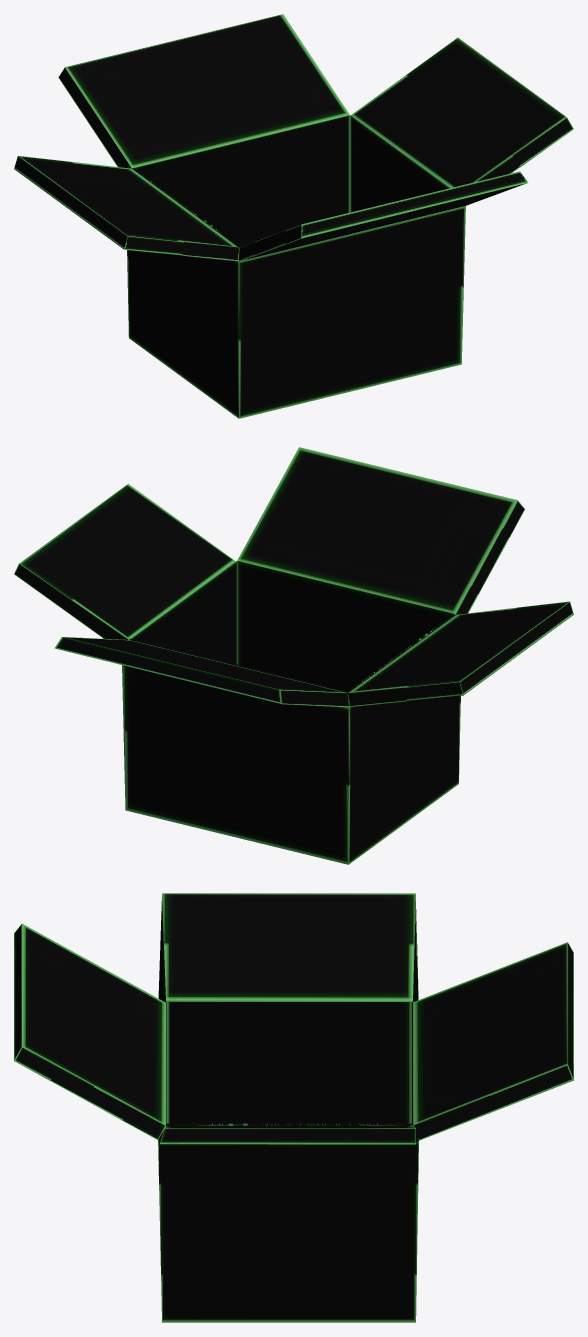
Rendered from OpenBox.FBX.
3 renders of one model, top to bottom at view 1: azimuth 30°, elevation 25°; view 2: azimuth 150°, elevation 25°; view 3: azimuth 270°, elevation 25°, orthographic. The views are drawn at different scales.
Parts seen in each view (by area): view 1: Box001; view 2: Box001; view 3: Box001.
Boxes of the visible parts, left/top/right/bottom form: Box001: left=14, top=14, right=573, bottom=418; Box001: left=14, top=447, right=573, bottom=864; Box001: left=14, top=893, right=573, bottom=1322.
Bounding box in the file's own units: 23.99 × 12.18 × 22.48.
Materials: 1 (1 with a texture image).
